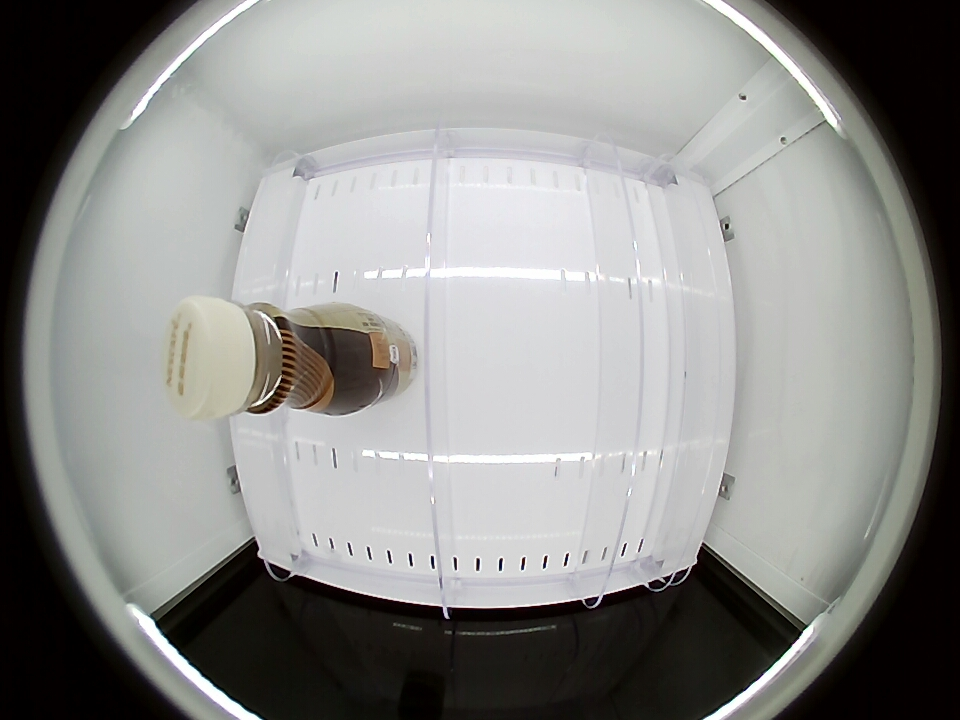kafei: (166, 298, 346, 419)
